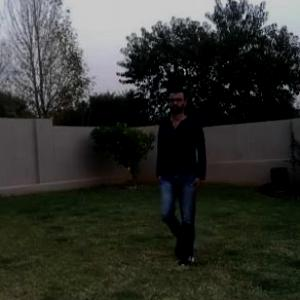follow: (157, 89, 206, 253)
